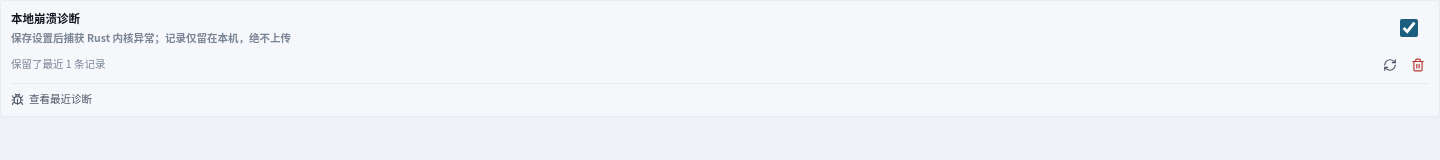
it: CrashDiagnosticsSettings › clears retained diagnostics after confirmation
Click the button named "清空诊断记录" at point(1418, 65), box [1406,53,1429,76]
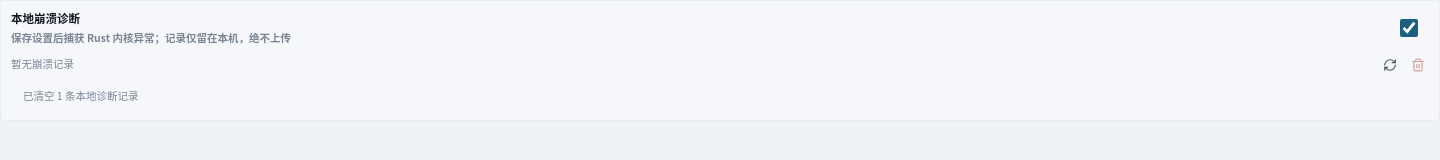
Expected: the text "已清空 1 条本地诊断记录" is shown, [23,88,138,103]
